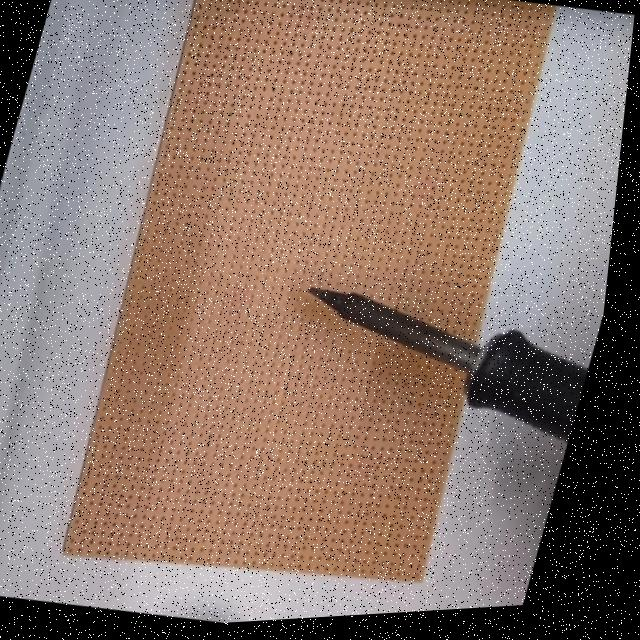soldering_iron: (266, 266, 607, 465)
